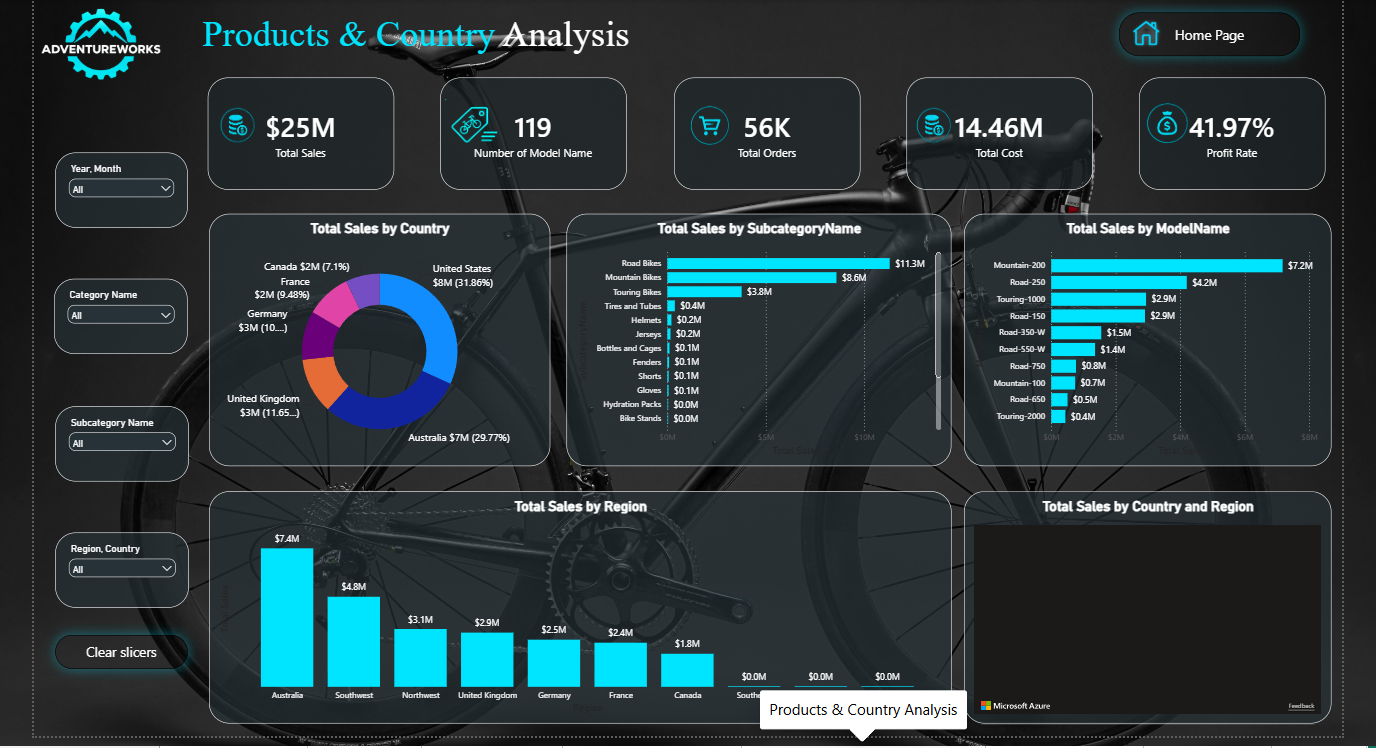

The page's visual inventory and layout, read from the dashboard file:
{"tool":"powerbi","page":{"name":"Products & Country Analysis","canvas":[1920,1080],"ordinal":4},"visuals":[{"type":"textbox","box":[242.1,14.7,680.5,71.5],"z":0},{"type":"image","box":[0,0,196.3,128.4],"z":1000},{"type":"slicer","fields":{"Values":["Calendar Table.Year","Calendar Table.Month Name"]},"box":[31.2,223.8,194.4,110.1],"z":2000},{"type":"slicer","fields":{"Values":["Product_Categories.CategoryName"]},"box":[29.3,409.6,196.3,110.1],"z":3000},{"type":"slicer","fields":{"Values":["Product_Subcategories.SubcategoryName"]},"box":[30.4,595.5,196.3,110.1],"z":4000},{"type":"slicer","fields":{"Values":["Territories.Region","Territories.Country"]},"box":[31.2,781.4,196.3,110.1],"z":5000},{"type":"actionButton","box":[31.2,931.8,194.4,49.5],"z":6000},{"type":"actionButton","box":[1592.1,18.3,266,64.2],"z":7000},{"type":"cardVisual","fields":{"Data":["Sales.Total Sales"]},"box":[255,113.7,273.3,165.1],"z":8000},{"type":"cardVisual","fields":{"Data":["Products.Number of Modelname"]},"box":[596.6,113.7,273.3,165.1],"z":9000},{"type":"cardVisual","fields":{"Data":["Sales.Total Cost"]},"box":[1279.8,113.7,273.3,165.1],"z":10000},{"type":"cardVisual","fields":{"Data":["Sales.Profit %"]},"box":[1621.5,113.7,273.3,165.1],"z":11000},{"type":"cardVisual","fields":{"Data":["Sales.Total Orders"]},"box":[938.2,113.7,273.3,165.1],"z":12000},{"type":"donutChart","fields":{"Category":["Territories.Country"],"Y":["Sales.Total Sales"]},"box":[256.8,313.7,500.7,370.5],"z":13000},{"type":"barChart","fields":{"Category":["Product_Subcategories.SubcategoryName"],"Y":["Sales.Total Sales"]},"box":[781.4,313.7,564.9,370.5],"z":14000},{"type":"barChart","fields":{"Category":["Products.ModelName"],"Y":["Sales.Total Sales"]},"box":[1364.7,313.7,539.3,370.5],"z":15000},{"type":"columnChart","fields":{"Category":["Territories.Region"],"Y":["Sales.Total Sales"]},"box":[256.8,720.9,1089.5,341.2],"z":16000},{"type":"azureMap","fields":{"Category":["Territories.Country"],"Series":["Territories.Region"]},"box":[1364.7,720.9,539.3,341.2],"z":17000},{"type":"image","box":[242.1,135.7,116.2,94.5],"z":18000},{"type":"image","box":[1610.5,135.7,116.2,94.5],"z":19000},{"type":"image","box":[939.1,135.7,116.2,94.5],"z":20000},{"type":"image","box":[1263.8,135.7,116.2,94.5],"z":21000},{"type":"image","box":[603.5,135.7,84.4,88],"z":22000},{"type":"image","box":[1594,18.3,77,58.7],"z":22001}]}

Visuals, with their boxes on the page's 1920x1080 design canvas (x1, y1, x2, y2). These are canvas units, not pixel positions in the 1376x748 screenshot, which may show the page scaled, cropped or inside an application window:
textbox: 242/15/923/86
image: 0/0/196/128
slicer - Calendar Table.Year x Calendar Table.Month Name: 31/224/226/334
slicer - Product_Categories.CategoryName: 29/410/226/520
slicer - Product_Subcategories.SubcategoryName: 30/596/227/706
slicer - Territories.Region x Territories.Country: 31/781/228/892
actionButton: 31/932/226/981
actionButton: 1592/18/1858/82
cardVisual - Sales.Total Sales: 255/114/528/279
cardVisual - Products.Number of Modelname: 597/114/870/279
cardVisual - Sales.Total Cost: 1280/114/1553/279
cardVisual - Sales.Profit %: 1622/114/1895/279
cardVisual - Sales.Total Orders: 938/114/1212/279
donutChart - Territories.Country x Sales.Total Sales: 257/314/758/684
barChart - Product_Subcategories.SubcategoryName x Sales.Total Sales: 781/314/1346/684
barChart - Products.ModelName x Sales.Total Sales: 1365/314/1904/684
columnChart - Territories.Region x Sales.Total Sales: 257/721/1346/1062
azureMap - Territories.Country x Territories.Region: 1365/721/1904/1062
image: 242/136/358/230
image: 1610/136/1727/230
image: 939/136/1055/230
image: 1264/136/1380/230
image: 604/136/688/224
image: 1594/18/1671/77
